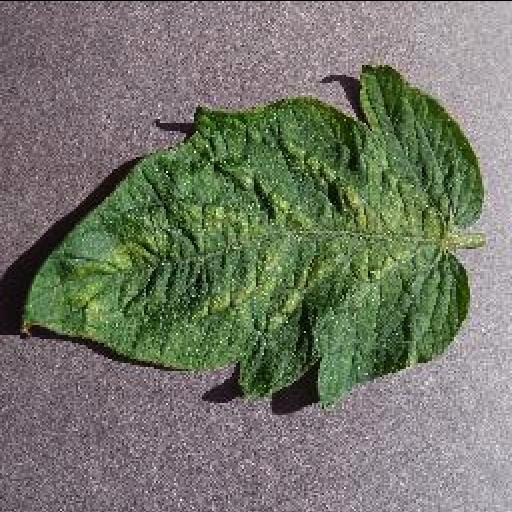disease_tomato: (22, 63, 482, 405)
